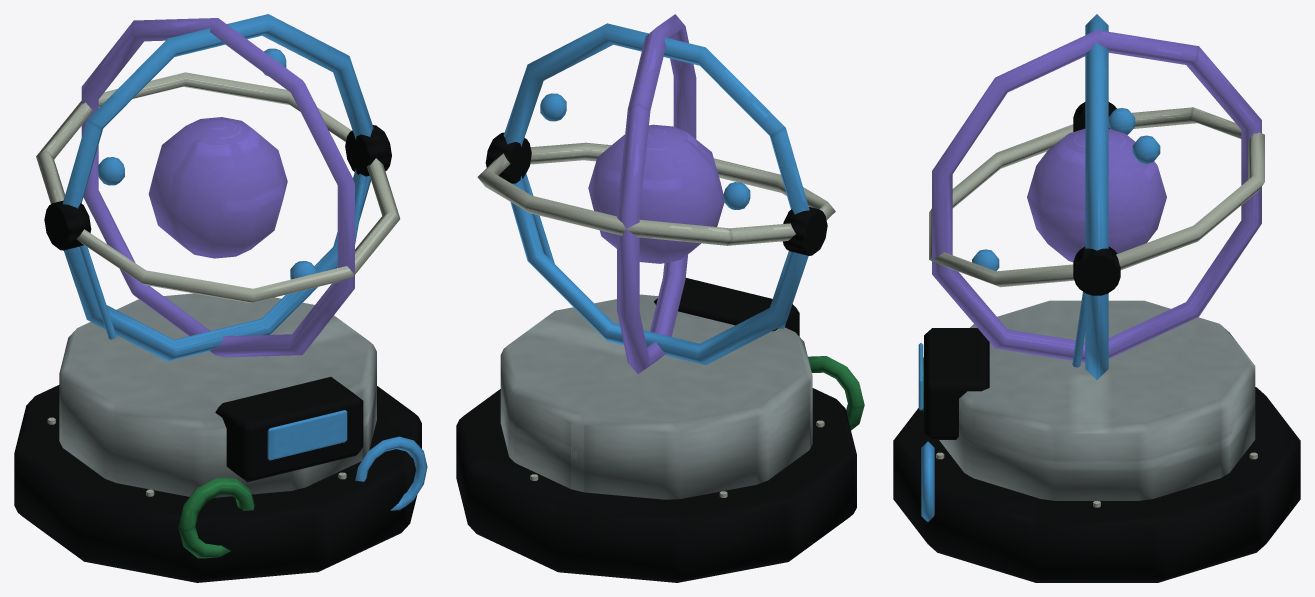
The model's file is stars-signal-low.glb.
3 views of the same model, side by side, from view 1: azimuth 30°, elevation 25°; view 2: azimuth 150°, elevation 25°; view 3: azimuth 270°, elevation 25° (orthographic).
Parts seen in each view (by area): view 1: StarMap_Base.001, StarMap_Platform.001, ANIM_GIMBAL_Y.001, StarMap_Core.001, ANIM_GIMBAL_X.001, StarMap_Gimbal_Z.001, StarMap_Control_Deck.001, StarMap_Control_Screen.001, PORT_Life.007, StarMap_Gimbal_Bearing_-1.001, PORT_Signal.009, StarMap_Gimbal_Bearing_1.001 (+2 smaller); view 2: StarMap_Platform.001, StarMap_Base.001, ANIM_GIMBAL_X.001, ANIM_GIMBAL_Y.001, StarMap_Core.001, StarMap_Gimbal_Z.001, StarMap_Control_Deck.001, StarMap_Gimbal_Bearing_-1.001, PORT_Life.007, StarMap_Gimbal_Bearing_1.001, Star_Point_0.001, Star_Point_1.001; view 3: StarMap_Platform.001, StarMap_Base.001, ANIM_GIMBAL_Y.001, StarMap_Core.001, StarMap_Gimbal_Z.001, ANIM_GIMBAL_X.001, StarMap_Control_Deck.001, StarMap_Gimbal_Bearing_1.001, PORT_Signal.009, Star_Point_0.001, Star_Point_1.001, StarMap_Gimbal_Cable_1.001.
Part boxes in pixels (x1,y1,x2,y2): StarMap_Base.001: (14, 385, 421, 582); StarMap_Platform.001: (59, 293, 376, 497); ANIM_GIMBAL_Y.001: (81, 18, 354, 357); StarMap_Core.001: (148, 117, 287, 258); ANIM_GIMBAL_X.001: (62, 14, 373, 361); StarMap_Gimbal_Z.001: (36, 72, 400, 303); StarMap_Control_Deck.001: (215, 377, 363, 482); StarMap_Control_Screen.001: (267, 410, 347, 460); PORT_Life.007: (178, 477, 254, 558); StarMap_Gimbal_Bearing_-1.001: (44, 200, 91, 250); PORT_Signal.009: (355, 436, 427, 510); StarMap_Gimbal_Bearing_1.001: (345, 125, 391, 176); StarMap_Platform.001: (500, 294, 812, 499); StarMap_Base.001: (456, 388, 856, 582); ANIM_GIMBAL_X.001: (503, 23, 809, 364); ANIM_GIMBAL_Y.001: (617, 14, 696, 374); StarMap_Core.001: (588, 124, 724, 263); StarMap_Gimbal_Z.001: (477, 142, 835, 245); StarMap_Control_Deck.001: (654, 278, 799, 336); StarMap_Gimbal_Bearing_-1.001: (783, 207, 827, 255); PORT_Life.007: (808, 356, 864, 430); StarMap_Gimbal_Bearing_1.001: (485, 132, 531, 183); Star_Point_0.001: (540, 93, 566, 121); Star_Point_1.001: (723, 182, 750, 209); StarMap_Platform.001: (939, 300, 1255, 500); StarMap_Base.001: (893, 387, 1300, 582); ANIM_GIMBAL_Y.001: (932, 30, 1261, 362); StarMap_Core.001: (1027, 128, 1166, 262); StarMap_Gimbal_Z.001: (929, 107, 1264, 287); ANIM_GIMBAL_X.001: (1085, 14, 1108, 379); StarMap_Control_Deck.001: (924, 328, 989, 439); StarMap_Gimbal_Bearing_1.001: (1073, 246, 1120, 295); PORT_Signal.009: (921, 441, 934, 521); Star_Point_0.001: (1132, 135, 1160, 163); Star_Point_1.001: (1108, 108, 1135, 134); StarMap_Gimbal_Cable_1.001: (1072, 291, 1085, 367).
Size of the model in its own units: 0.9511 by 1.27 by 0.9876.
Materials: 6 (6 with a texture image).
